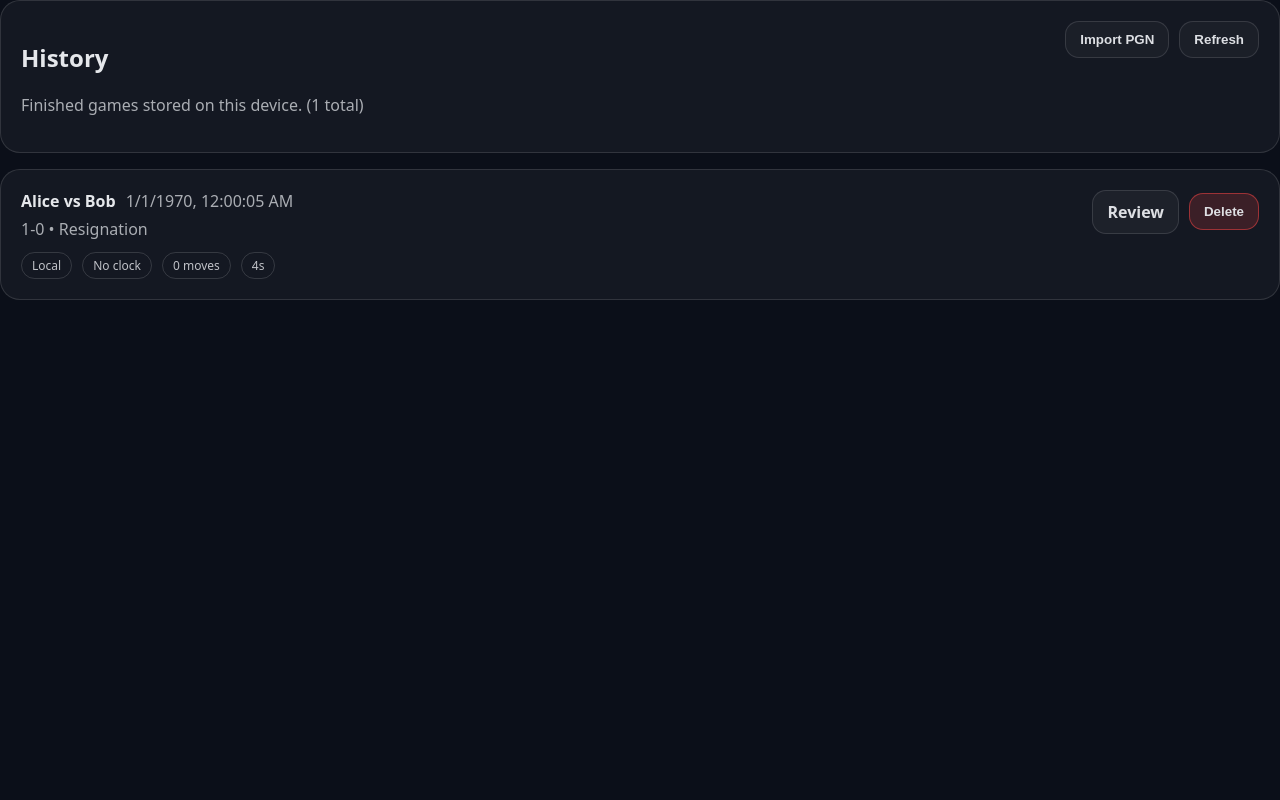
Test: HistoryPage › lists games and allows deleting a game
This screenshot has width=1280, height=800.
expect the text "Alice vs Bob" is shown: met, box [21, 190, 116, 212]
expect the text "1-0 • Resignation" is shown: met, box [21, 218, 148, 240]
Delete flow
Click the button "Delete" at (1224, 212), box [1189, 193, 1259, 230]
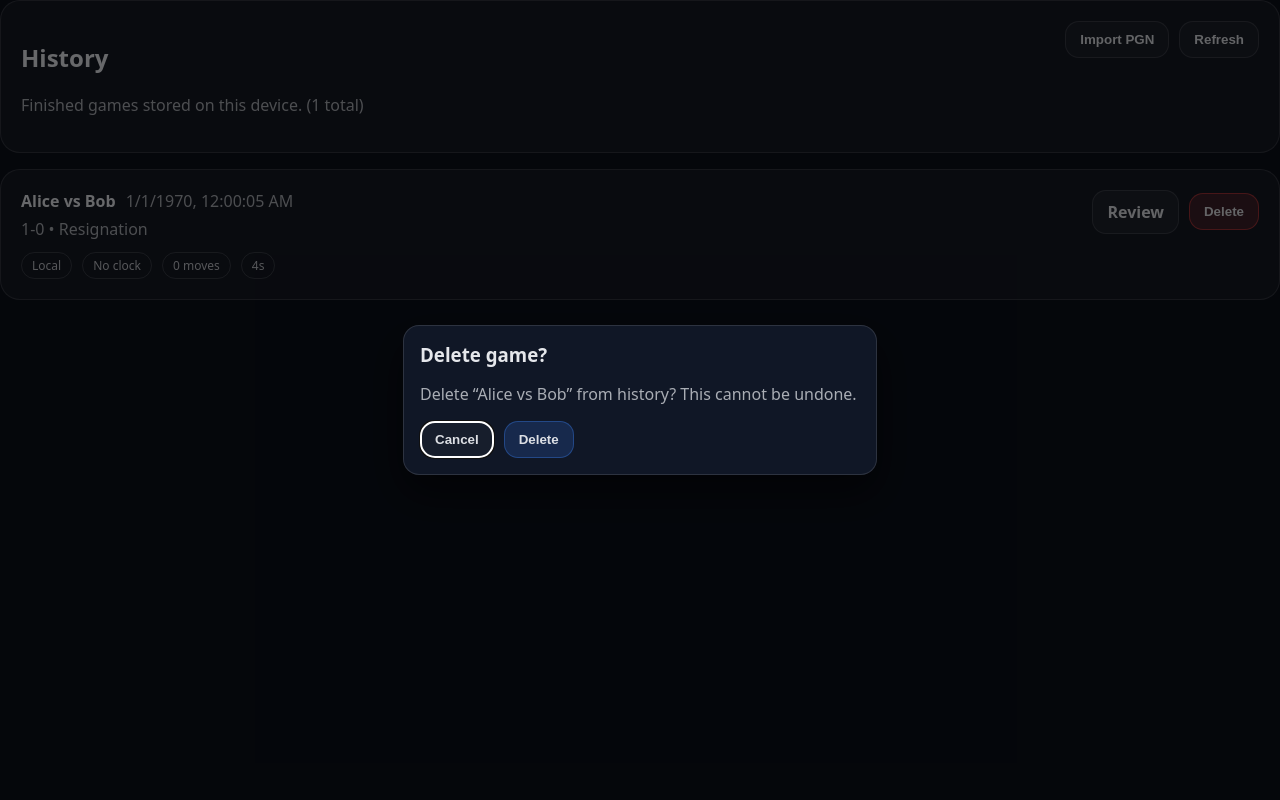
expect the heading "Delete game?" is shown: met, box [420, 342, 547, 367]
Confirm (use the dialog's Delete button, not the list item's)
Click the button "Delete" at (539, 440), box [504, 421, 574, 458]
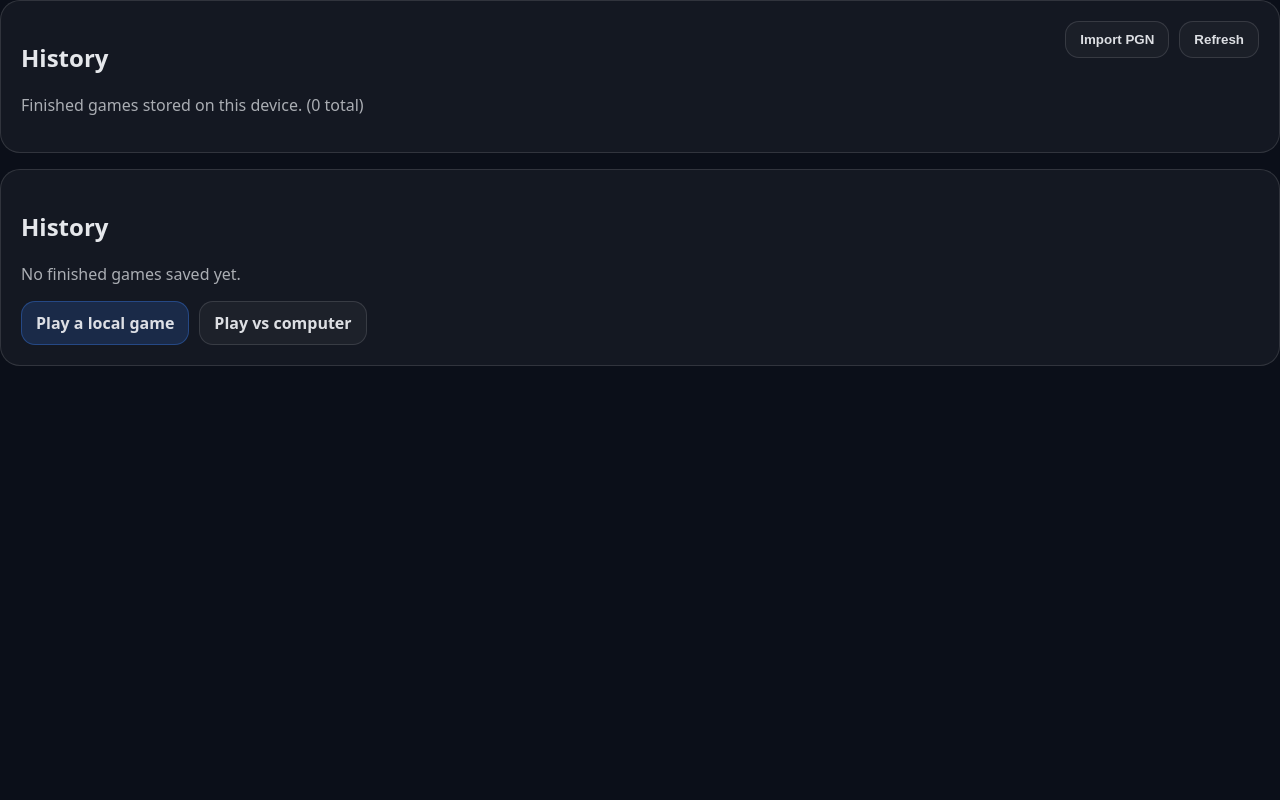
expect the text "Alice vs Bob" is gone: met
